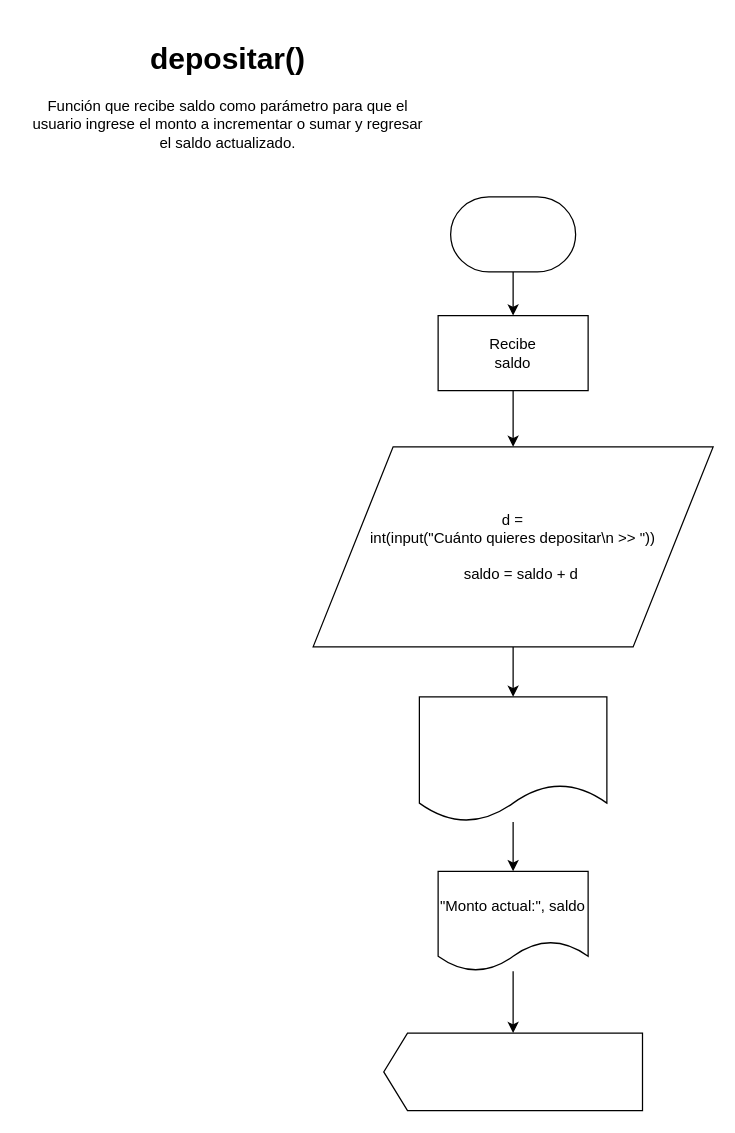
Image size: 735x1133. Some labels were removed from this diagram. Here are the shapes that lost their labels. From the top down, the centre of each, then its label:
(512,759): "Monto a depositar:", d
(512,1071): return saldo
